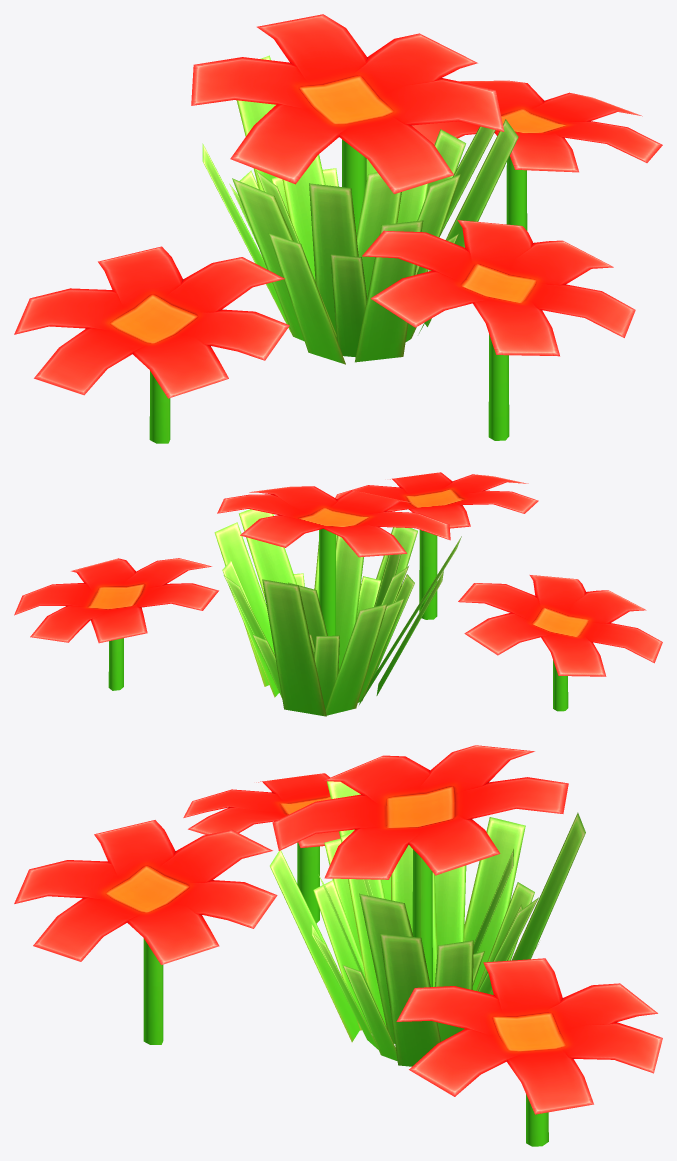
The model's file is SM_Flower_02_B.glb.
The picture shows the model from 3 angles, top to bottom: view 1: azimuth 30°, elevation 25°; view 2: azimuth 150°, elevation 25°; view 3: azimuth 270°, elevation 25°; orthographic projection. The views are drawn at different scales.
Visible parts, largest first — view 1: SM_Flower_02_B; view 2: SM_Flower_02_B; view 3: SM_Flower_02_B.
Part boxes in pixels (left/top/right/bottom): SM_Flower_02_B: left=14, top=14, right=662, bottom=443; SM_Flower_02_B: left=14, top=472, right=662, bottom=716; SM_Flower_02_B: left=14, top=745, right=662, bottom=1146.
Size of the model in its own units: 0.608 by 0.2099 by 0.4922.
1 material, 1 textured.
